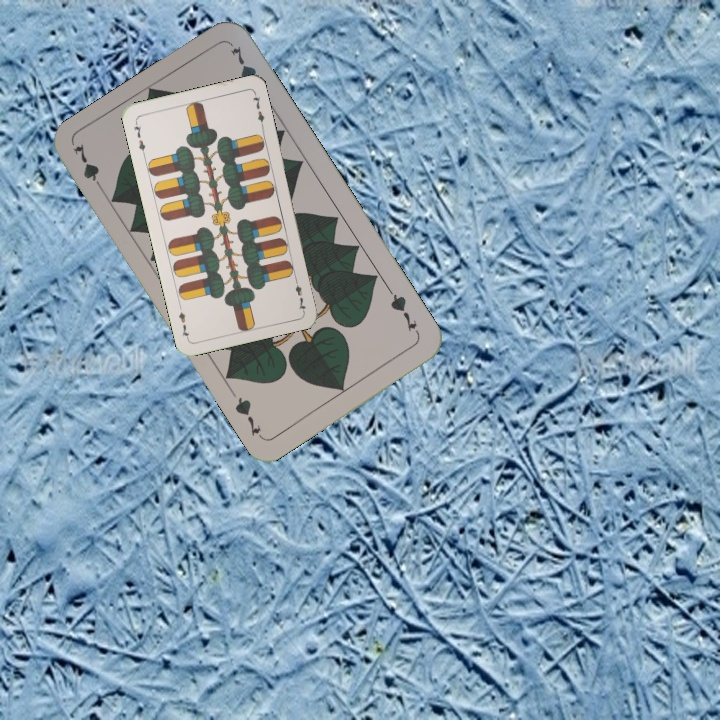E7: (130, 117, 148, 157), (291, 273, 308, 313)
G7: (68, 139, 108, 196), (384, 285, 422, 338)
